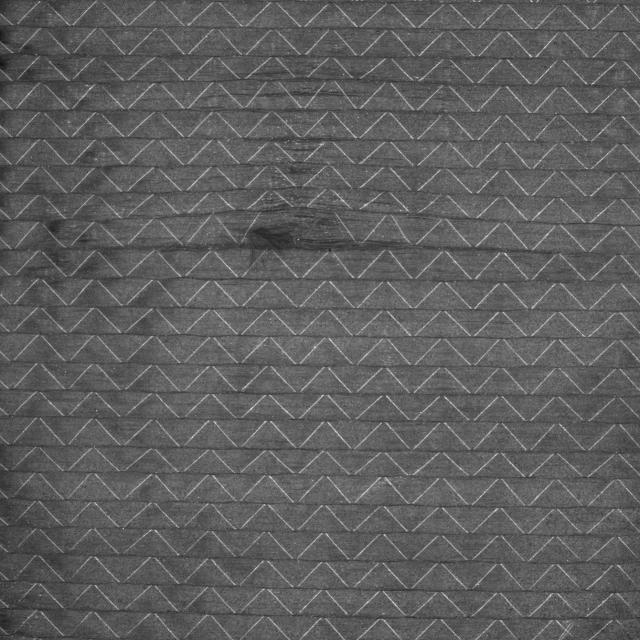carbon-fibre-defect: (182, 211, 415, 248), (243, 177, 355, 212), (274, 137, 344, 166), (274, 160, 325, 177)
